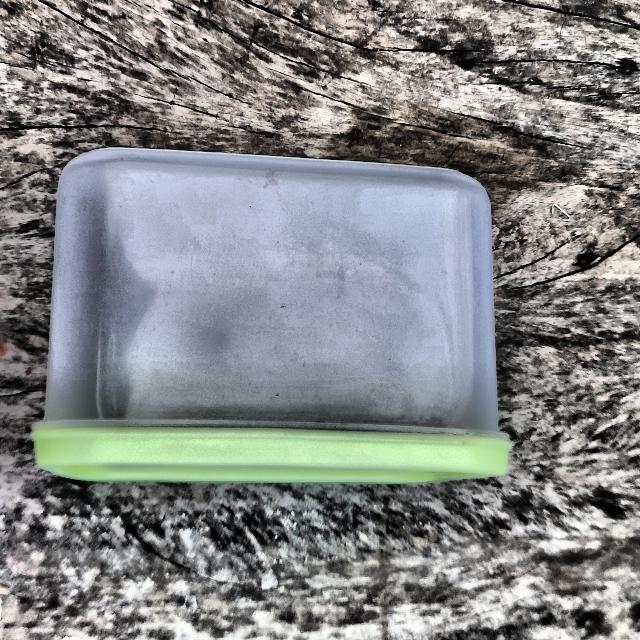plastic container: (24, 142, 522, 502)
